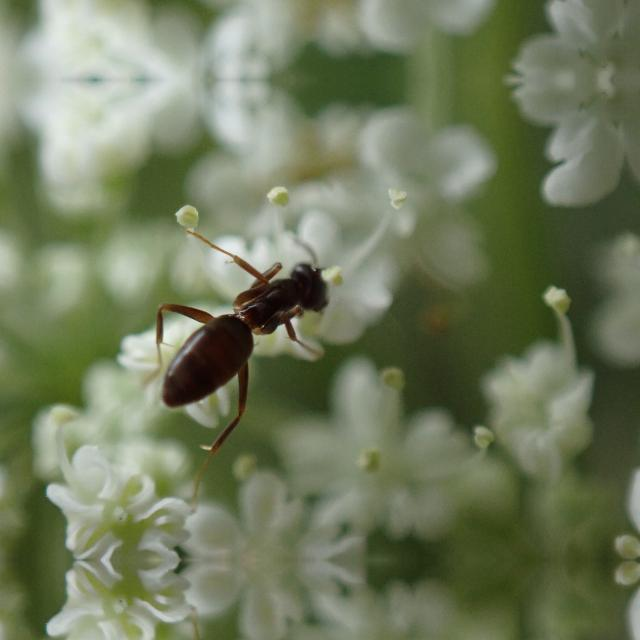Tapinoma: (117, 222, 360, 426)
